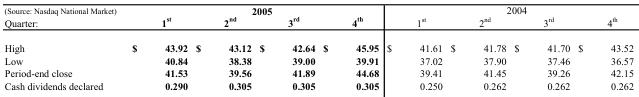table: (3, 4, 632, 90)
table column: (3, 4, 123, 90), (123, 4, 191, 90), (254, 4, 318, 90), (318, 4, 382, 90), (445, 4, 509, 90), (509, 4, 573, 90), (191, 4, 254, 90), (382, 4, 445, 90), (573, 4, 632, 90)
table column header: (3, 4, 632, 35)
table row: (3, 15, 632, 35), (3, 35, 632, 53), (3, 53, 632, 66), (3, 66, 632, 79), (3, 4, 632, 15), (3, 79, 632, 90)
table spanning cell: (3, 4, 123, 35), (123, 4, 191, 35), (318, 4, 382, 35), (382, 4, 445, 35), (573, 4, 632, 35), (445, 4, 573, 15), (191, 4, 318, 15)
